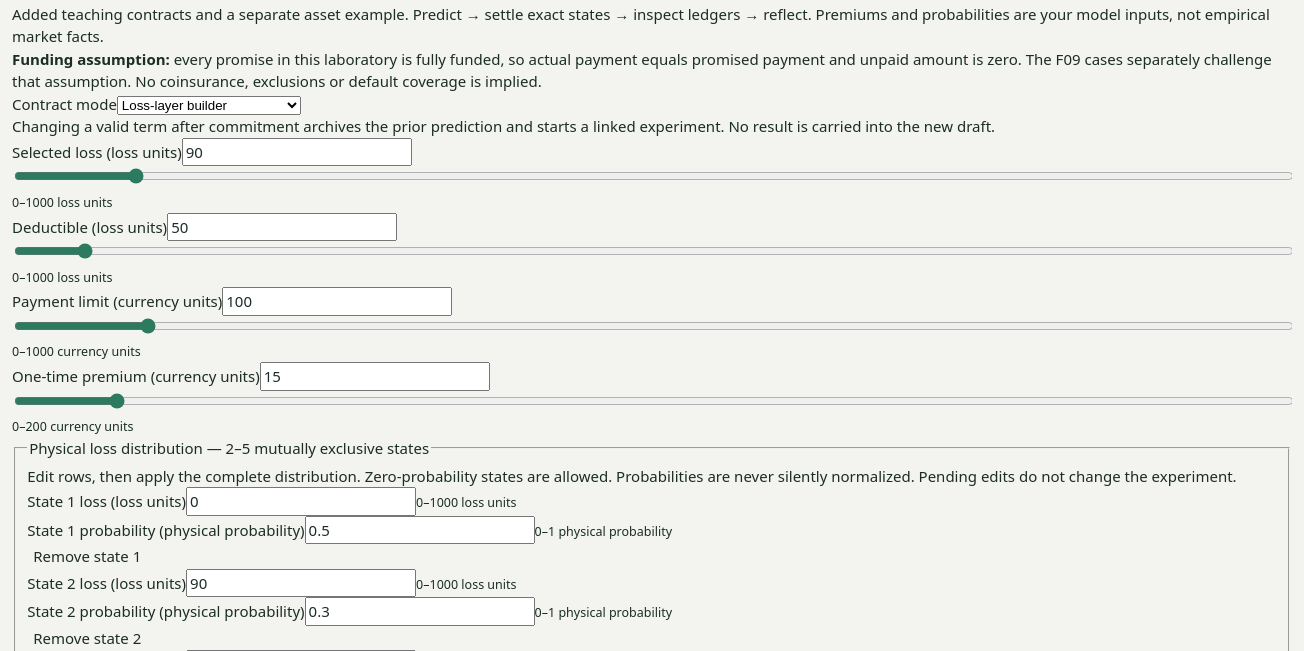
Test: contracts view with frozen root controller › rejects unnormalized distribution edits, allows zero probability and applies states atomically
Replace the text in the number field labelled "State 1 probability (physical probability)" with ".4": (420, 530) [305, 516, 535, 544]
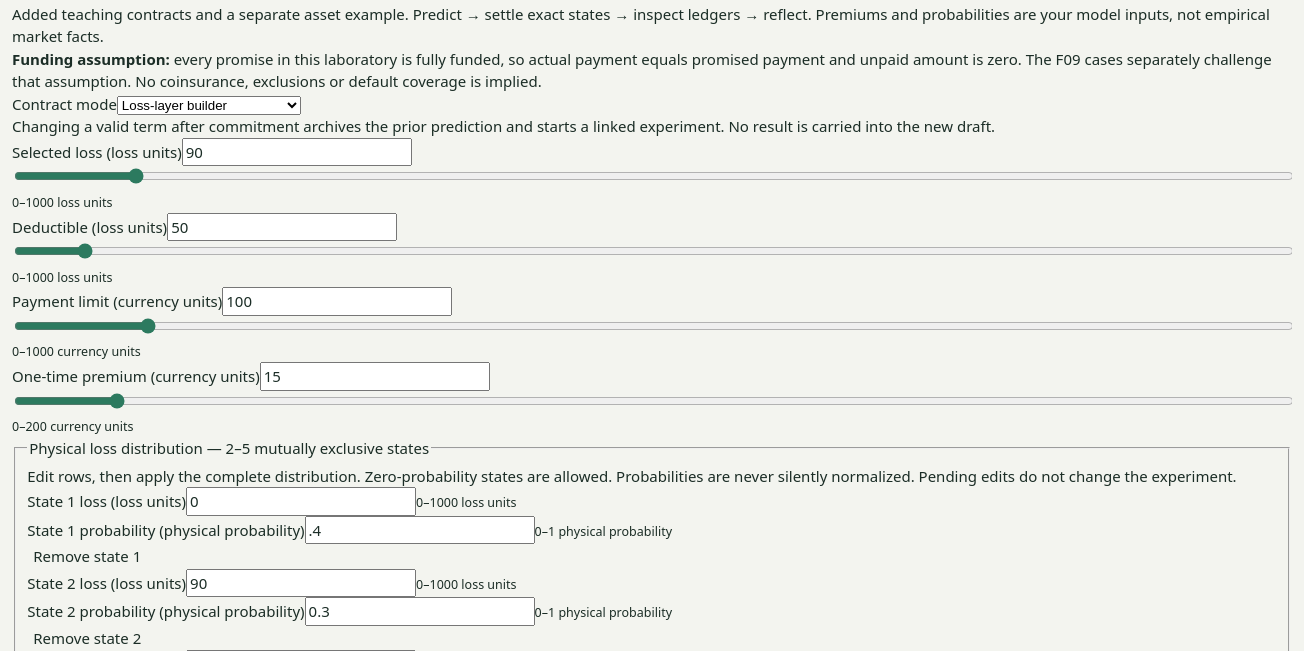
Replace the text in the number field labelled "State 2 probability (physical probability)" with ".4": (420, 611) [305, 597, 535, 626]
(page scrolled)
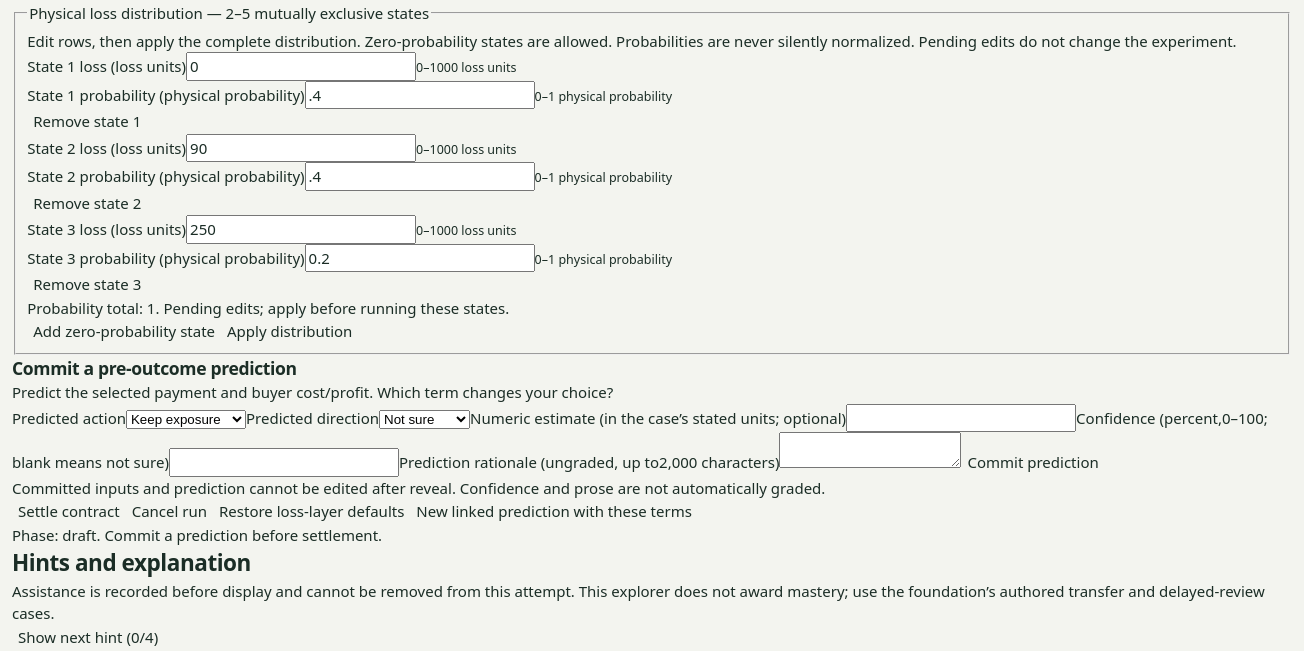
Click the button "Apply distribution": (290, 331) [221, 319, 358, 344]
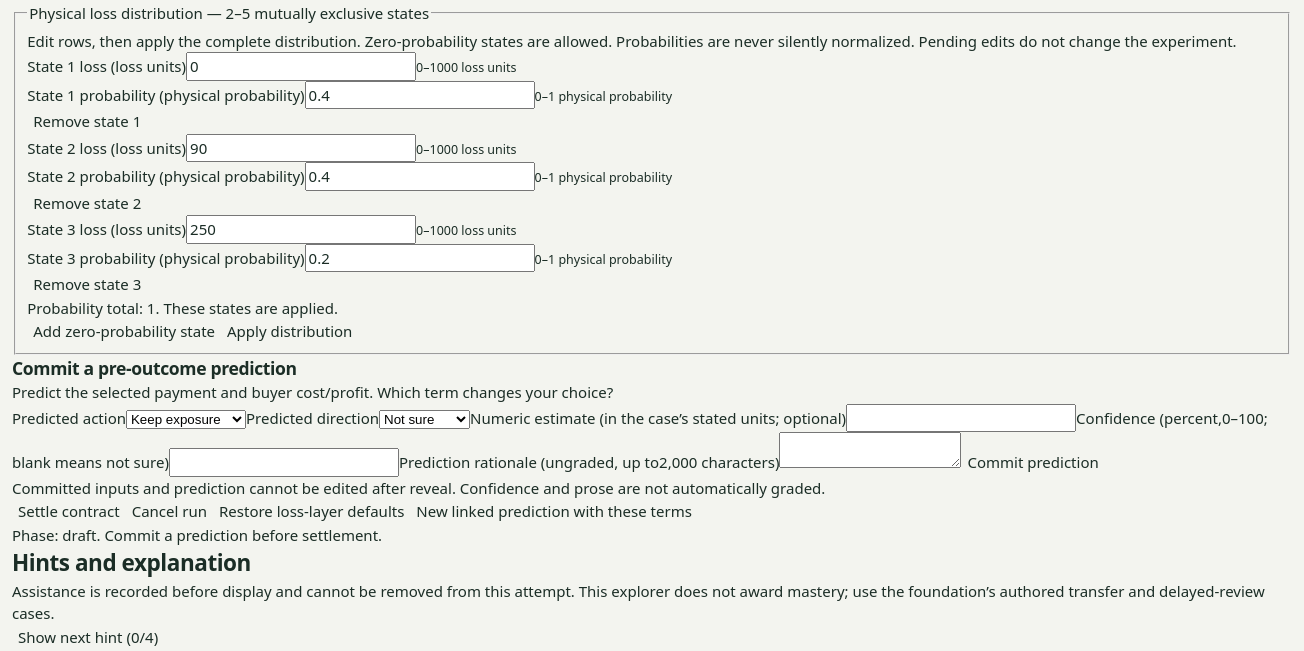
Click the button "Add zero-probability state": (124, 331) [27, 319, 221, 344]
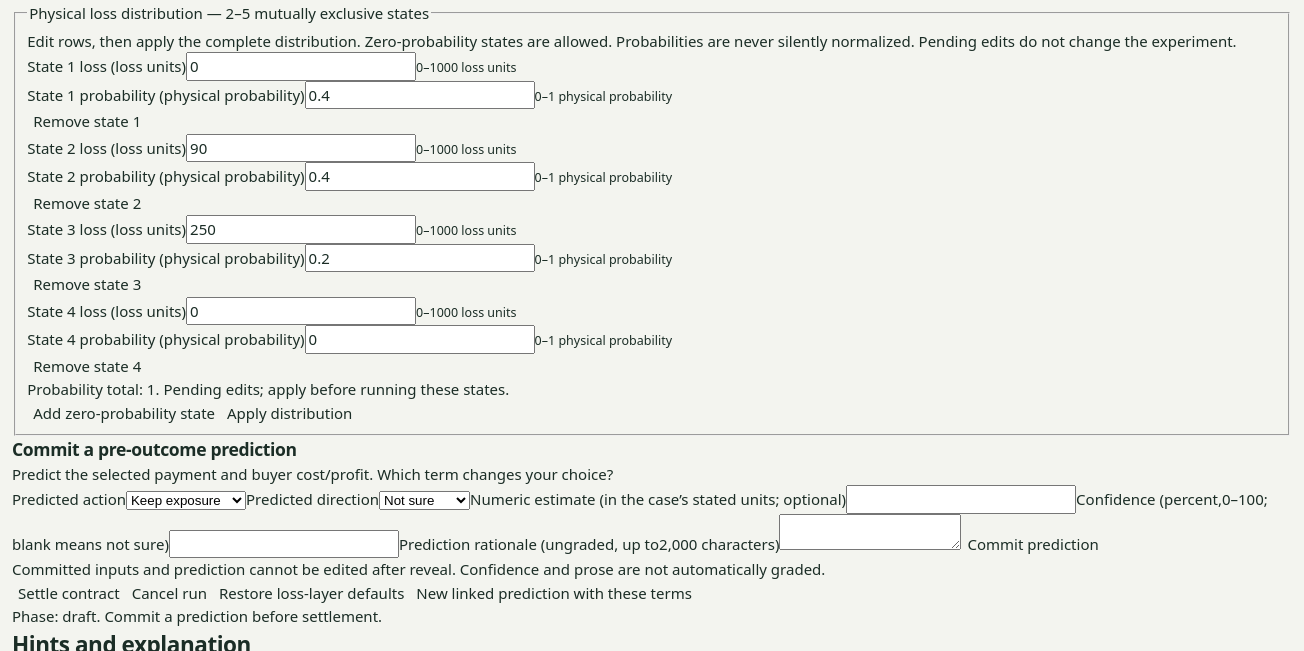
Click the button "Apply distribution": (290, 413) [221, 400, 358, 425]
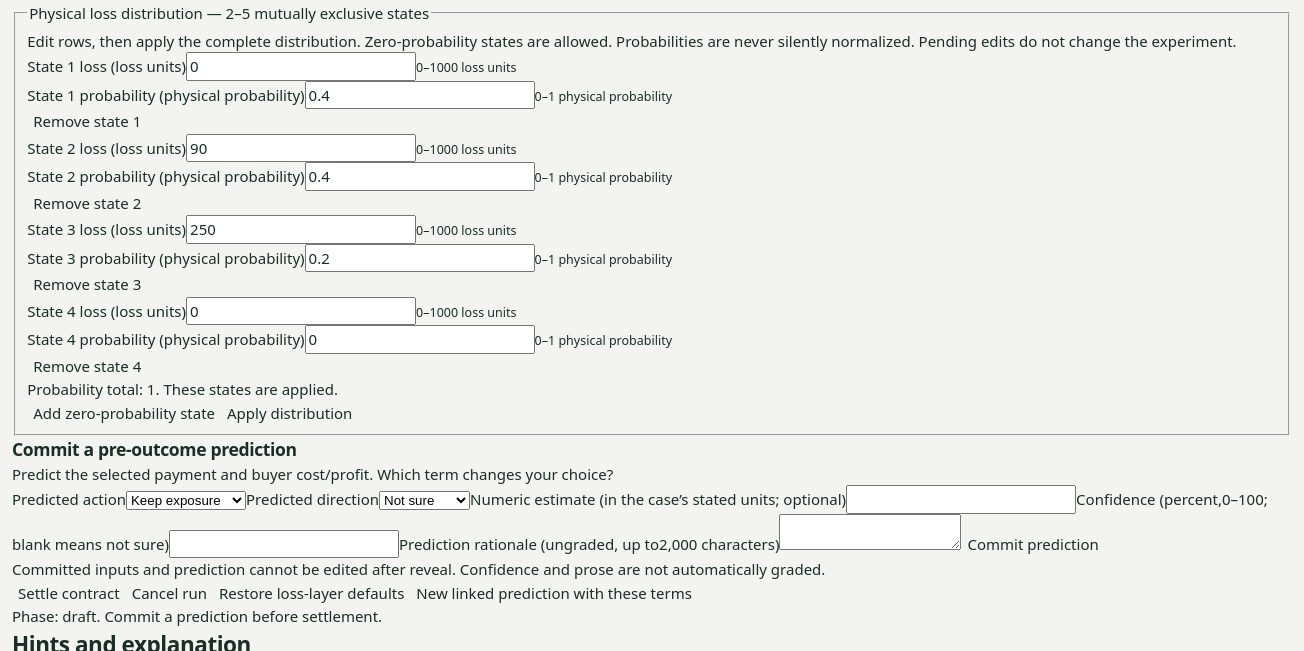
expect the number field labelled "State 4 probability (physical probability)" holds "0": met, box [305, 325, 535, 354]
Click the button "Restore loss-layer defaults": (312, 593) [213, 581, 410, 605]
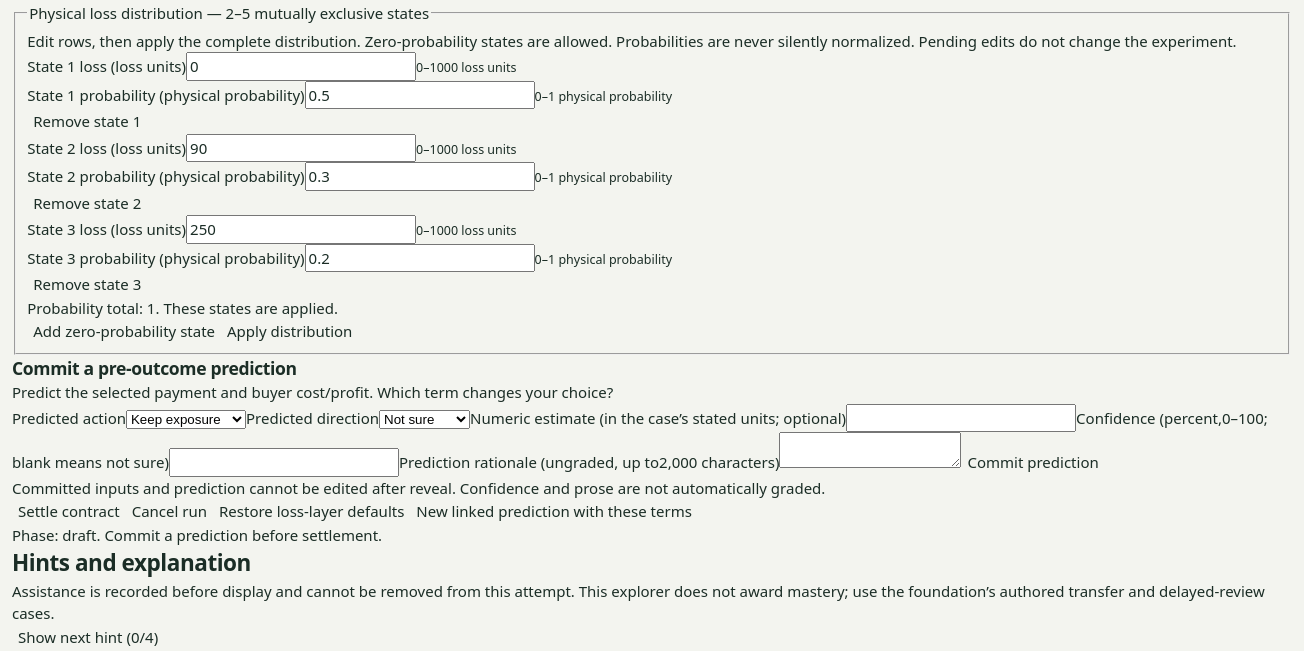
expect the number field labelled "State 1 probability (physical probability)" holds "0.5": met, box [305, 80, 535, 109]
expect the label labelled "State 4 probability (physical probability)" is gone: met
